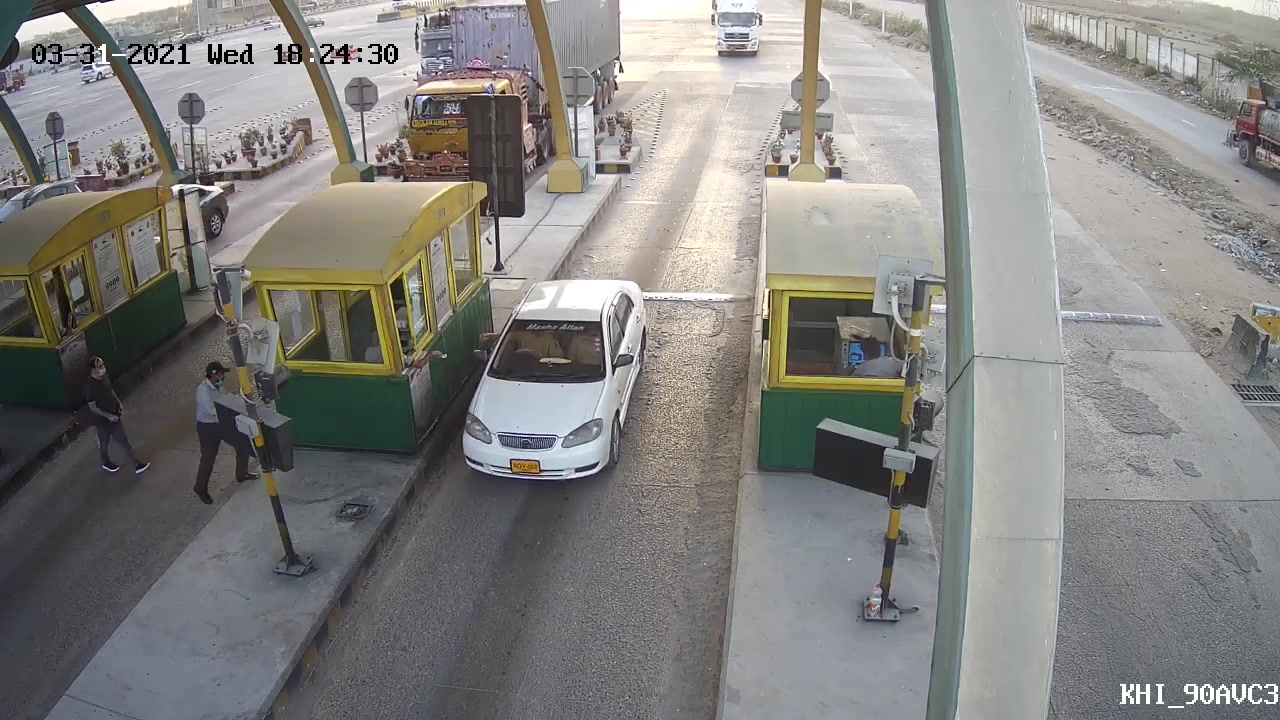F1: (456, 268, 652, 488)
